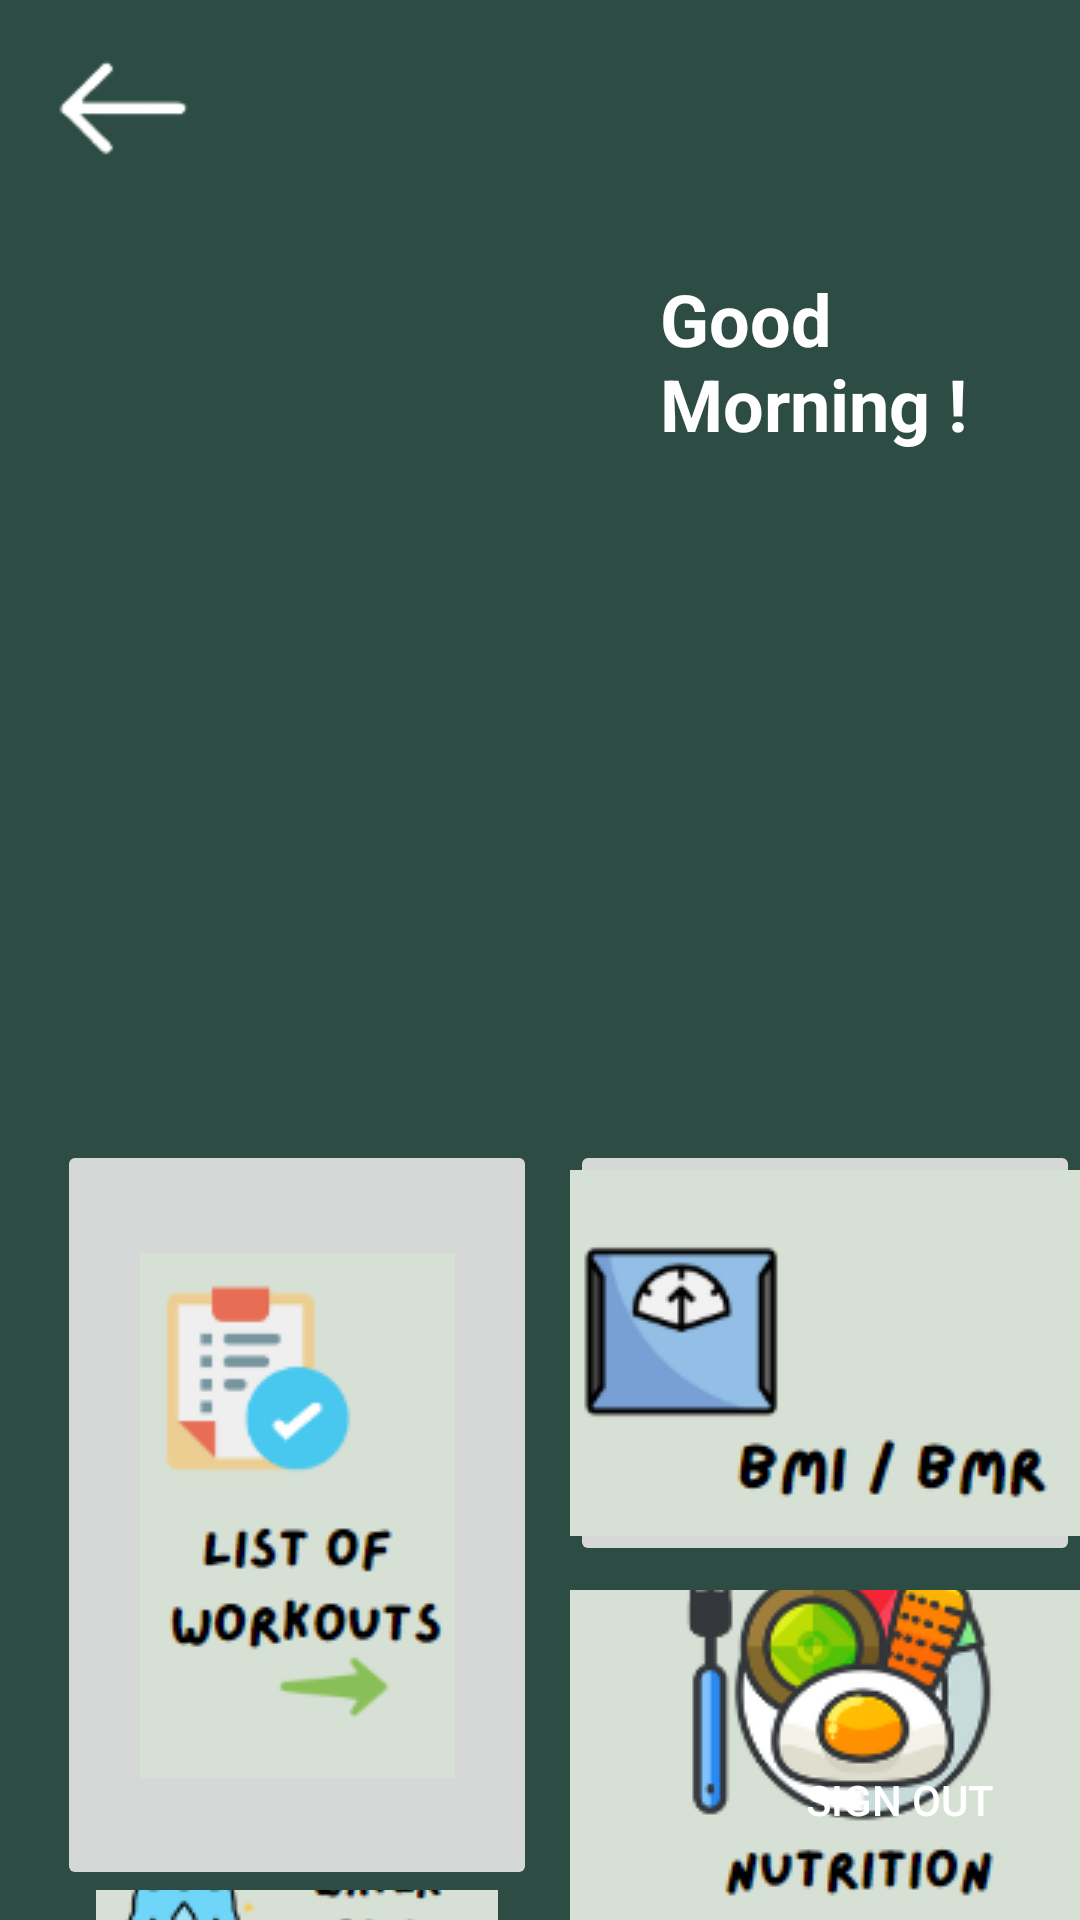

Icons on this 1080w x 1920h Android screen, each with its box as {"left": x1, "top": y1, "right": x2, "bottom": y2}:
backbutdas: {"left": 59, "top": 62, "right": 187, "bottom": 155}
